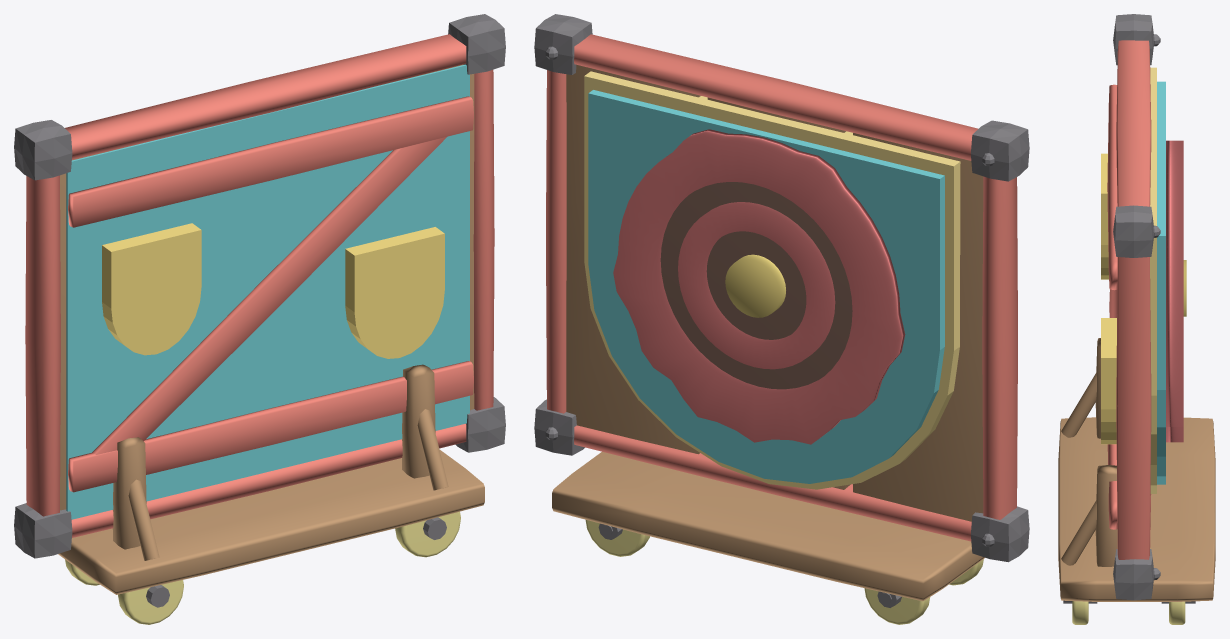
Rendered from TargetBoard.glb.
The picture shows the model from 3 angles, left to right: view 1: azimuth 30°, elevation 25°; view 2: azimuth 150°, elevation 25°; view 3: azimuth 270°, elevation 25°; orthographic projection. The views are drawn at different scales.
Visible parts, largest first — view 1: Paint, Frame, Wood, Crest, Iron, Wheels; view 2: Wood, Rings, Paint, Frame, Face, ShieldRim, Iron, Bull, Wheels; view 3: Wood, Frame, Rings, Iron, Paint, Crest, ShieldRim, Wheels.
Part boxes in pixels (x1,y1,x2,y2): Paint: (66, 64, 469, 519); Frame: (25, 34, 494, 537); Wood: (58, 64, 484, 594); Crest: (102, 223, 444, 358); Iron: (14, 14, 505, 607); Wheels: (65, 511, 460, 624); Wood: (552, 64, 984, 601); Rings: (613, 129, 905, 444); Paint: (588, 90, 944, 483); Frame: (546, 34, 1017, 541); Face: (660, 182, 852, 389); ShieldRim: (584, 71, 960, 489); Iron: (534, 14, 1029, 607); Bull: (725, 254, 785, 317); Wheels: (585, 520, 983, 624); Wood: (1058, 338, 1215, 601); Frame: (1107, 40, 1151, 559); Rings: (1166, 140, 1183, 442); Iron: (1063, 14, 1195, 603); Paint: (1157, 81, 1165, 484); Crest: (1101, 153, 1116, 444); ShieldRim: (1150, 67, 1156, 493); Wheels: (1072, 601, 1185, 624).
Bounding box in the file's own units: 7.9 × 7.79 × 2.5.
